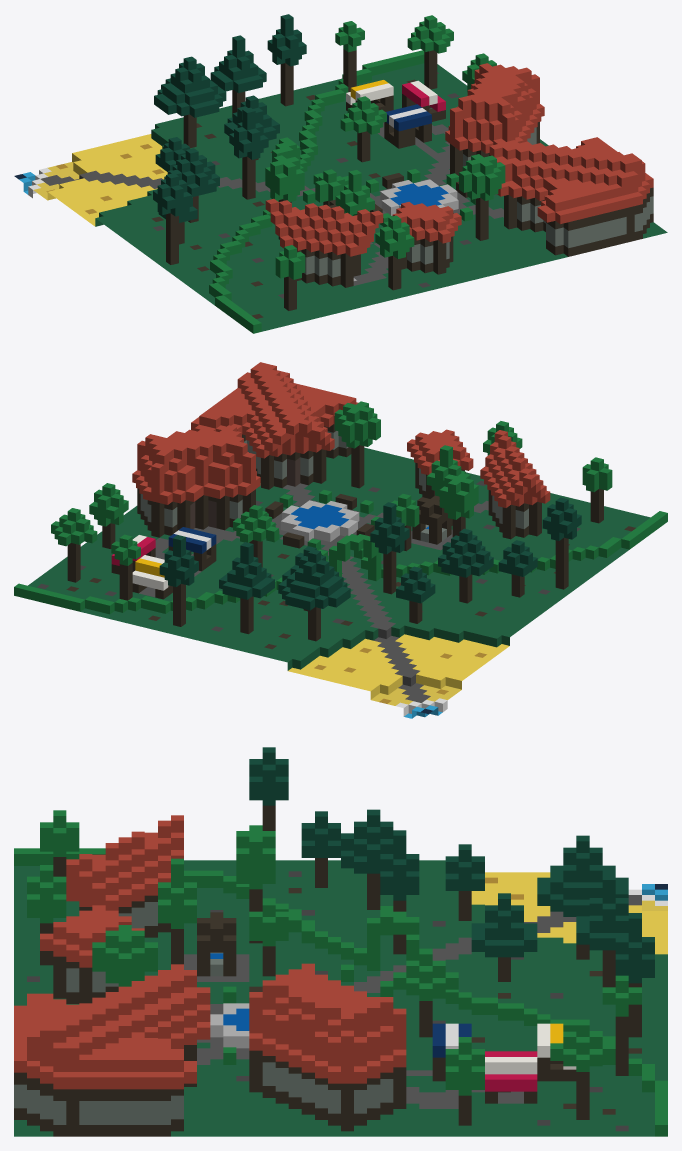
The model's file is 1corner.obj.
3 renders of one model, top to bottom at view 1: azimuth 30°, elevation 25°; view 2: azimuth 150°, elevation 25°; view 3: azimuth 270°, elevation 25°, orthographic. The views are drawn at different scales.
Visible parts, largest first — view 1: Untitled.001; view 2: Untitled.001; view 3: Untitled.001.
Boxes of the visible parts, left/top/right/bottom form: Untitled.001: left=14, top=14, right=667, bottom=333; Untitled.001: left=14, top=362, right=667, bottom=718; Untitled.001: left=14, top=747, right=667, bottom=1136.
Bounding box in the file's own units: 5 × 1.3 × 5.
1 material, 1 textured.
